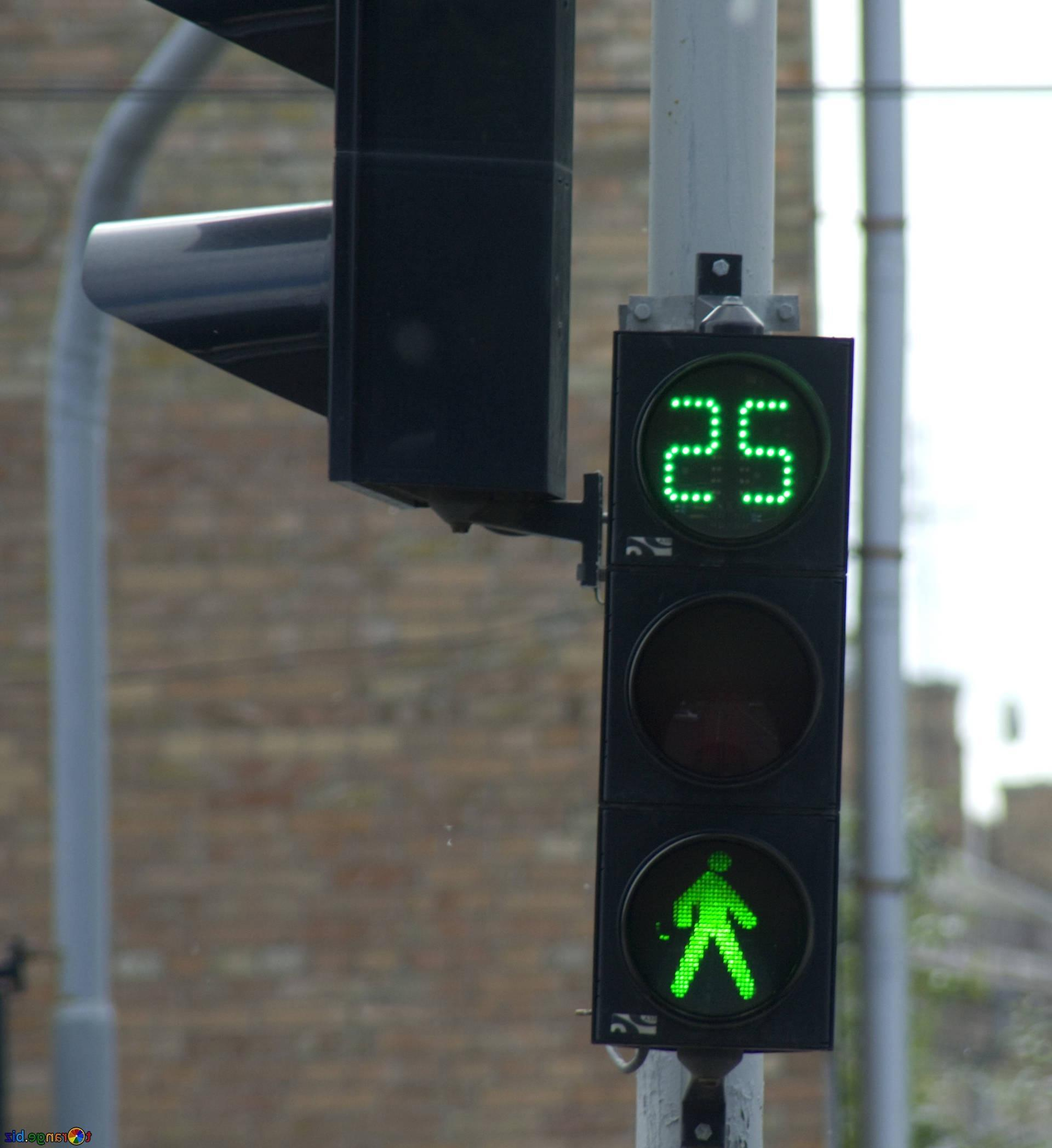green: (584, 307, 885, 1069)
